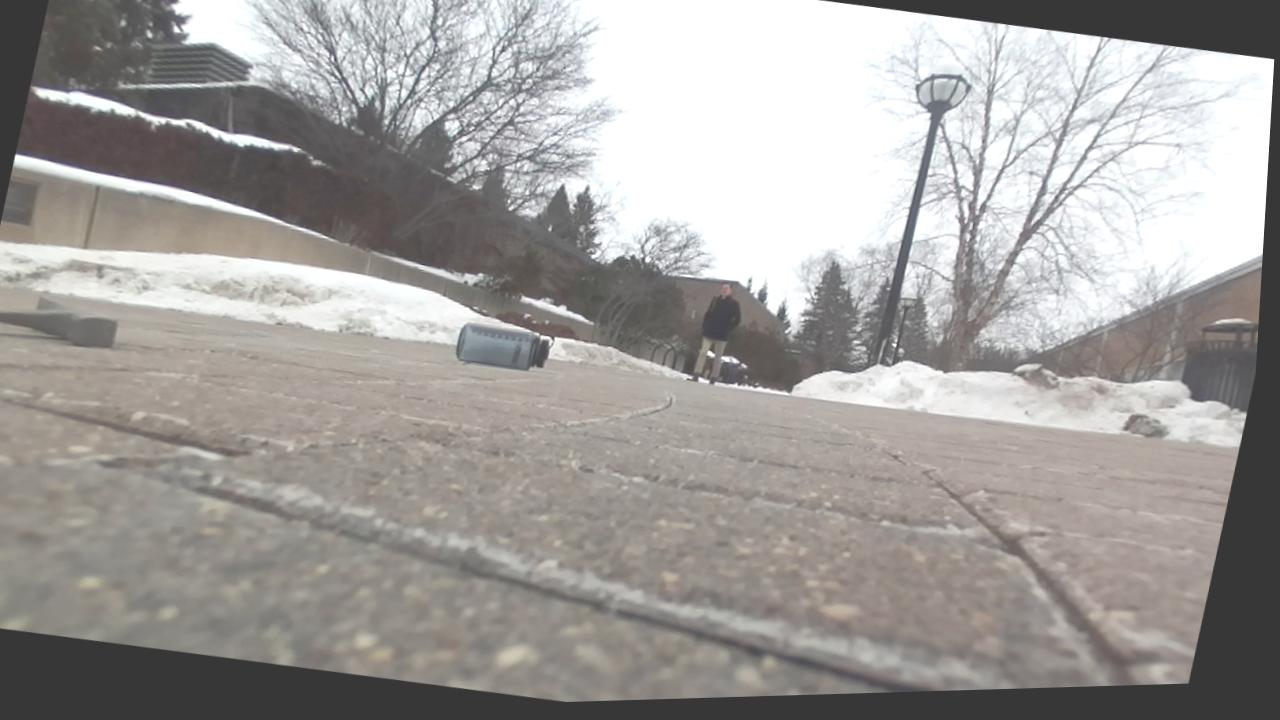bottle: (456, 322, 554, 369)
